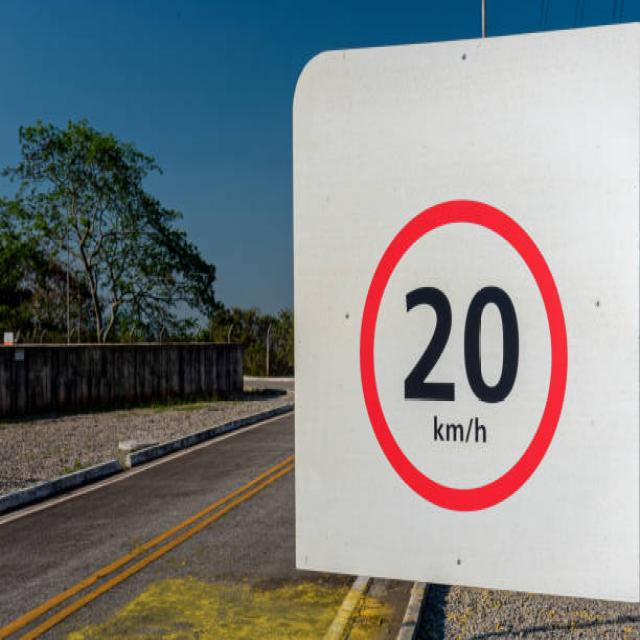speed_limit_20: (355, 182, 576, 517)
